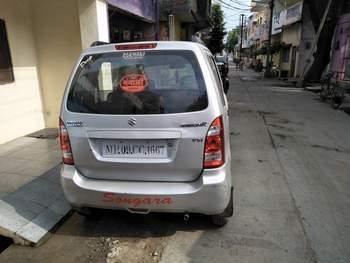number_plate: (91, 137, 177, 169)
